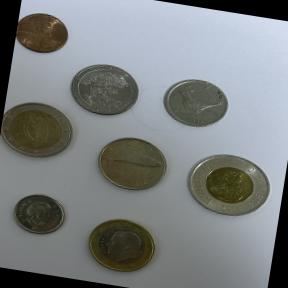1 Euro-B: (73, 206, 170, 283)
2 Euro-B: (0, 94, 79, 167)
Canada-10cent-B: (3, 184, 74, 243)
Canada-2Dollar-B: (175, 140, 282, 230)
Croatia-2Kune-B: (84, 125, 179, 203)
US-1cent-B: (13, 2, 80, 64)
US-25cent-B: (61, 54, 150, 124)
